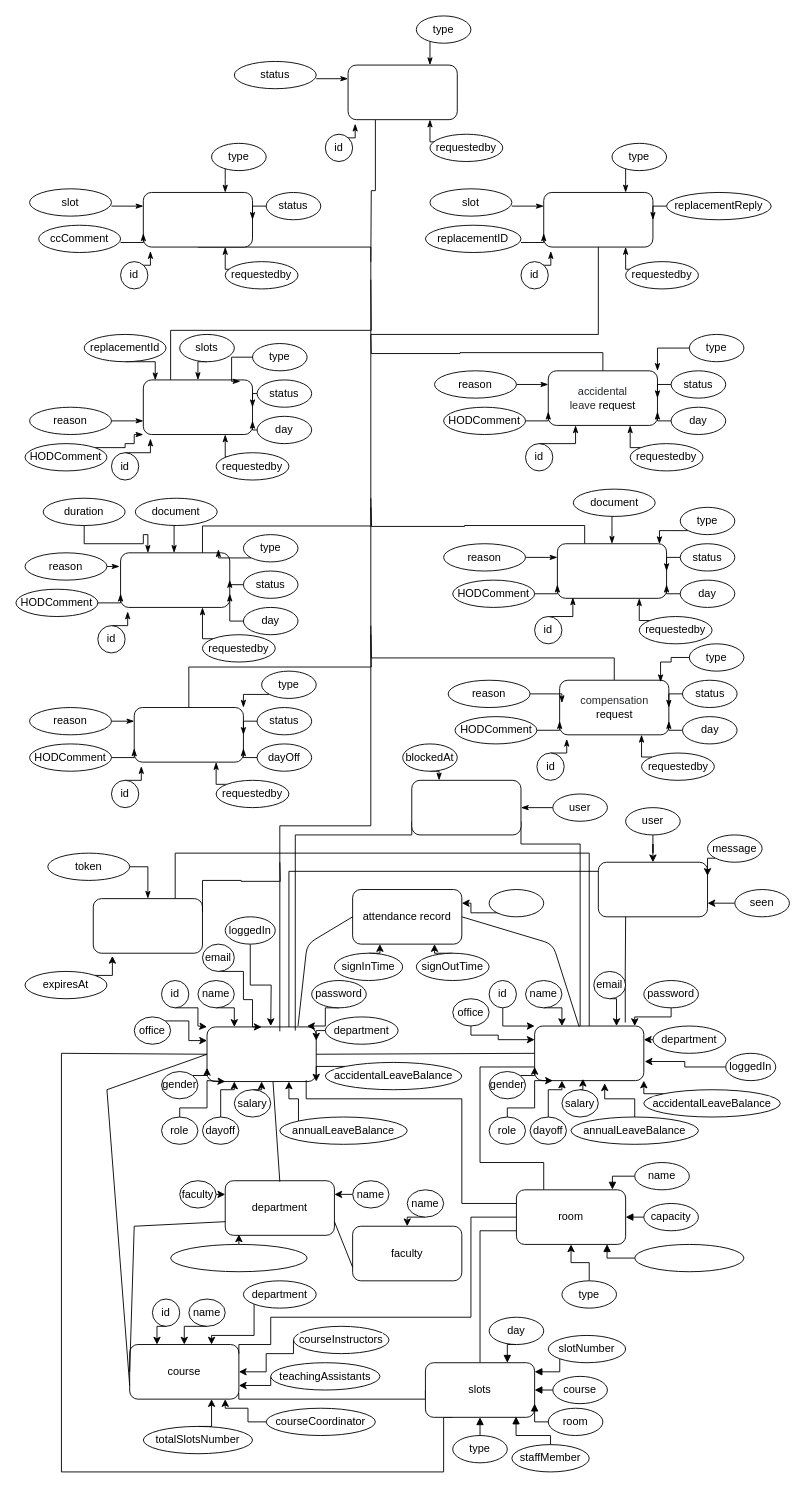
Image size: 805x1489. Some labels were removed from this diagram. The centre of each missing label's shape, as x and y in pixels:
"academic member" goes at point (261, 1054).
"annual leave request" goes at point (197, 407).
"day off change request" goes at point (188, 734).
"headOfDepartment" goes at point (238, 1258).
"hr member" goes at point (589, 1053).
"jwt blacklist" goes at point (147, 925).
"maternity leave request" goes at point (175, 579).
"notification" goes at point (652, 889).
"remainingCapacity" goes at point (689, 1258).
"replacement request" goes at point (598, 219).
"request" goes at point (402, 92).
"sick leaves request" goes at point (611, 570).
"slot linking request" goes at point (197, 219).
"staffId" goes at point (516, 903).
"user blacklist" goes at point (466, 807).
